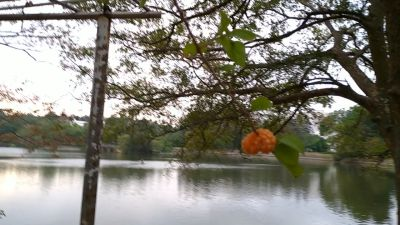eggs: (240, 127, 278, 155)
